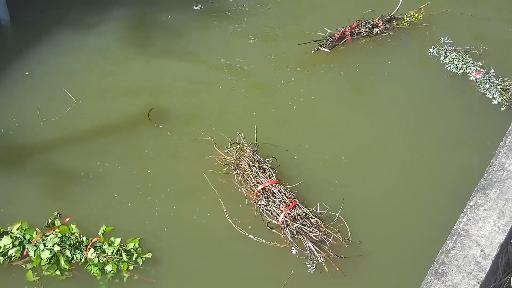twig: (142, 99, 356, 280), (280, 6, 459, 65), (0, 212, 170, 274), (430, 37, 508, 104)
